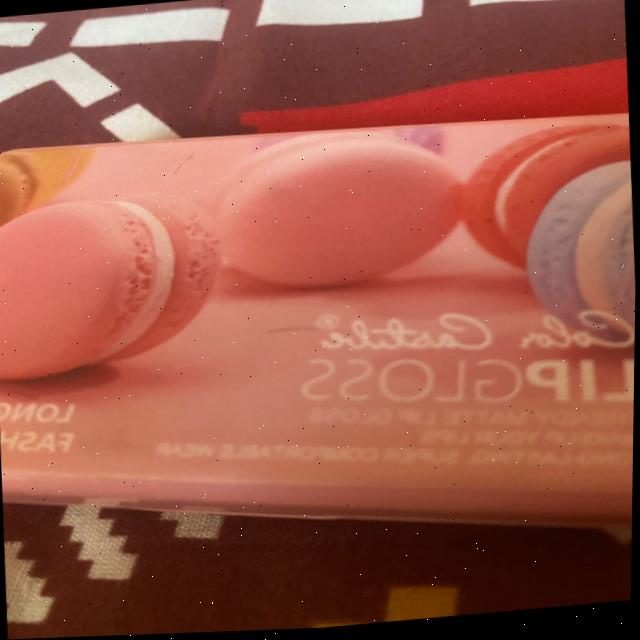makeup: (0, 82, 639, 584)
